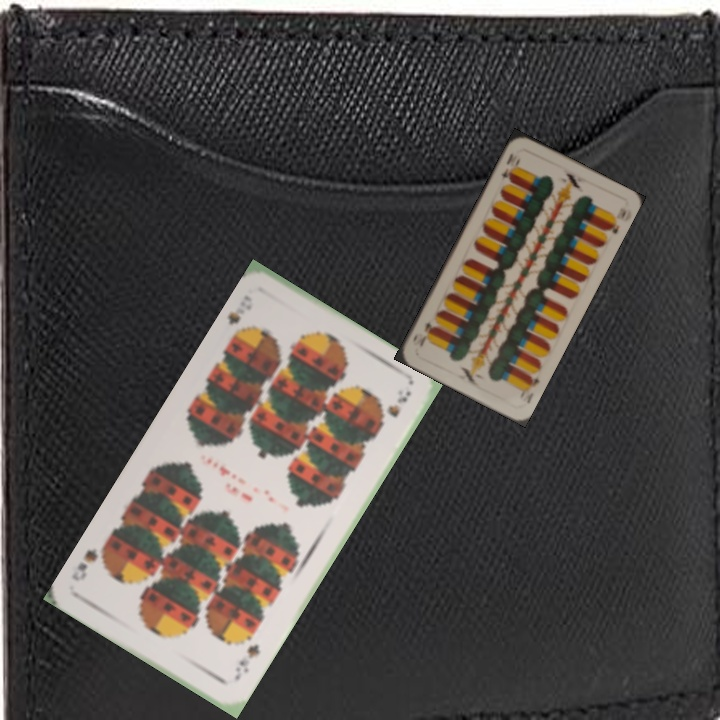E10: (521, 371, 542, 406), (497, 149, 516, 184)
S9: (230, 639, 263, 683), (224, 303, 251, 344)
